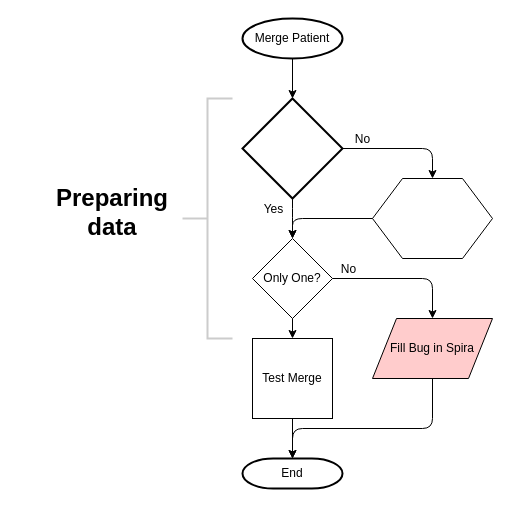
Image size: 510x506. Some labels were removed from this diagram. The shapes that lost their labels are listed below. From the top down, each one's box as (x1, y1, x2, y2) in pixels, then its label:
(241, 97, 343, 199): Check if same patient exists
(372, 178, 492, 258): Create Patient
